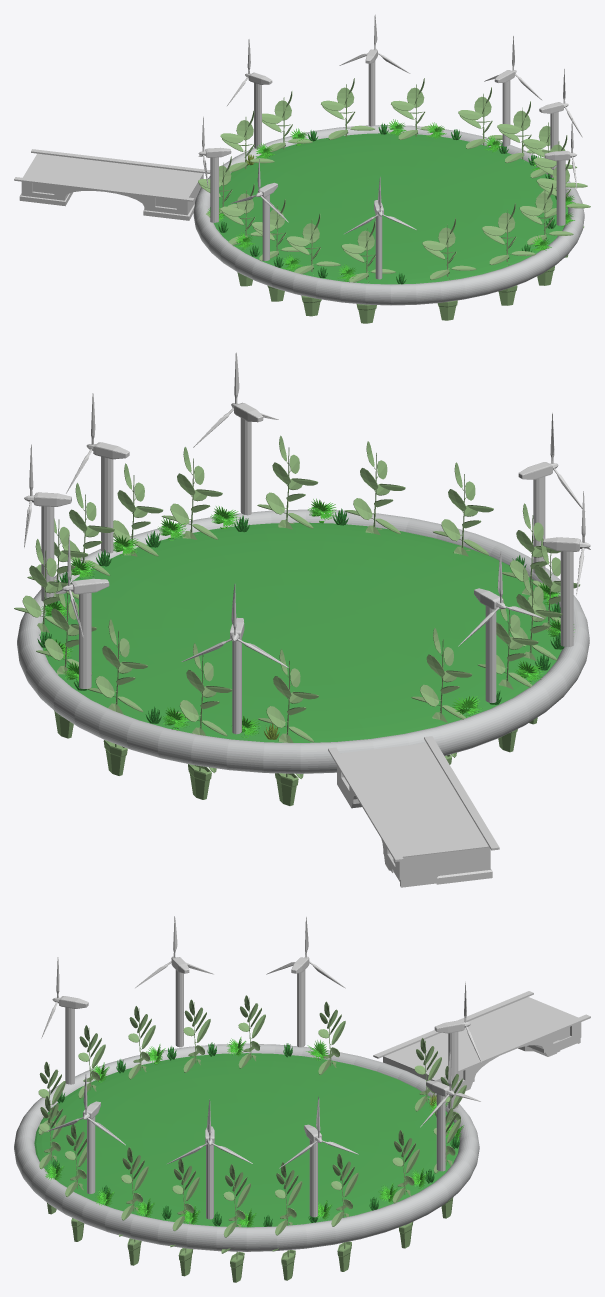
File: ExquisiteJofo5.glb
3 views of the same model, one above another, from view 1: azimuth 30°, elevation 25°; view 2: azimuth 150°, elevation 25°; view 3: azimuth 270°, elevation 25° (orthographic). The views are drawn at different scales.
Visible parts, largest first — view 1: Mesh_Mesh_head_geo.001_lambert2SG.001; view 2: Mesh_Mesh_head_geo.001_lambert2SG.001; view 3: Mesh_Mesh_head_geo.001_lambert2SG.001.
Boxes of the visible parts, x1=… form: Mesh_Mesh_head_geo.001_lambert2SG.001: x1=14, y1=14, x2=590, y2=323; Mesh_Mesh_head_geo.001_lambert2SG.001: x1=14, y1=352, x2=590, y2=887; Mesh_Mesh_head_geo.001_lambert2SG.001: x1=14, y1=916, x2=590, y2=1282.
Bounding box in the file's own units: 0.1159 × 0.04 × 0.114.
